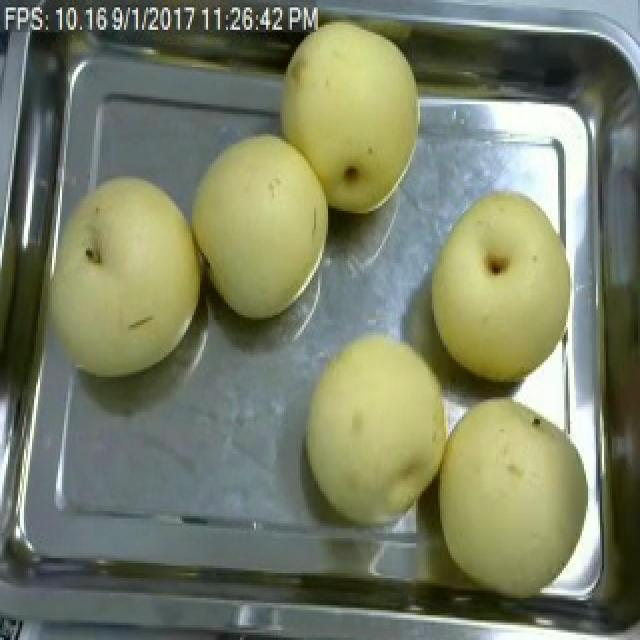Fruit: (28, 159, 218, 394), (426, 390, 604, 606), (290, 320, 464, 536), (416, 179, 584, 392), (266, 15, 432, 226), (182, 116, 340, 332)
